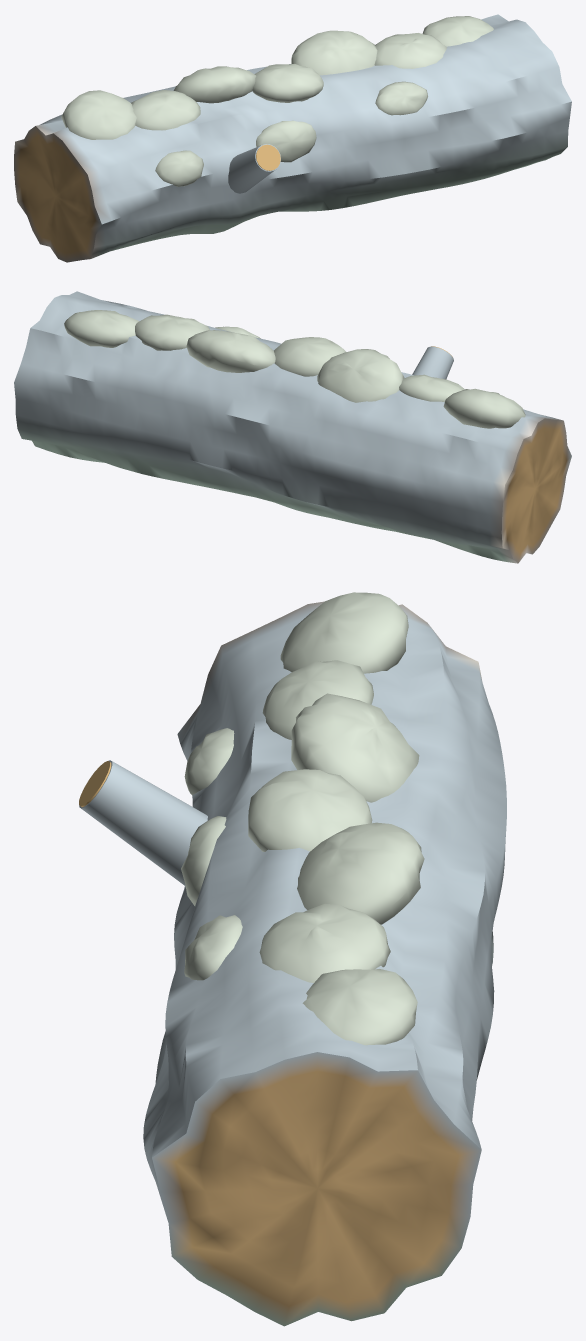
Rendered from prop-log.glb.
The picture shows the model from 3 angles, top to bottom: view 1: azimuth 30°, elevation 25°; view 2: azimuth 150°, elevation 25°; view 3: azimuth 270°, elevation 25°; orthographic projection. The views are drawn at different scales.
Parts seen in each view (by area): view 1: body; view 2: body; view 3: body.
Part boxes in pixels (<box>): body: <box>14,14,571,262</box>; body: <box>14,291,571,563</box>; body: <box>79,592,506,1326</box>.
Bounding box in the file's own units: 0.4087 × 0.1323 × 0.1592.
Materials: 3 (2 with a texture image).
